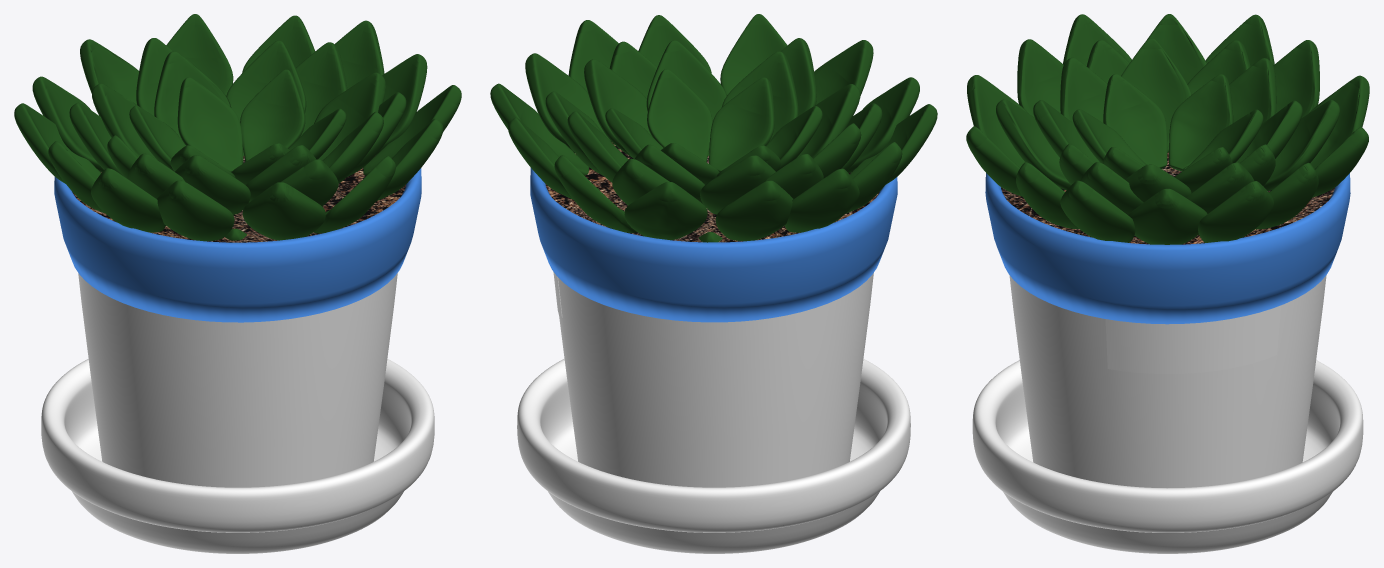
Rendered from obj_succulent_plant_9155b2.glb.
3 views of the same model, side by side, from view 1: azimuth 30°, elevation 25°; view 2: azimuth 150°, elevation 25°; view 3: azimuth 270°, elevation 25° (orthographic).
Parts seen in each view (by area): view 1: obj_succulent_plant_9155b2; view 2: obj_succulent_plant_9155b2; view 3: obj_succulent_plant_9155b2.
Part boxes in pixels (x1,y1,x2,y2): obj_succulent_plant_9155b2: (14,14,461,553); obj_succulent_plant_9155b2: (490,14,937,553); obj_succulent_plant_9155b2: (966,14,1369,553).
Size of the model in its own units: 0.5859 by 0.6 by 0.5511.
4 materials, 1 textured.
